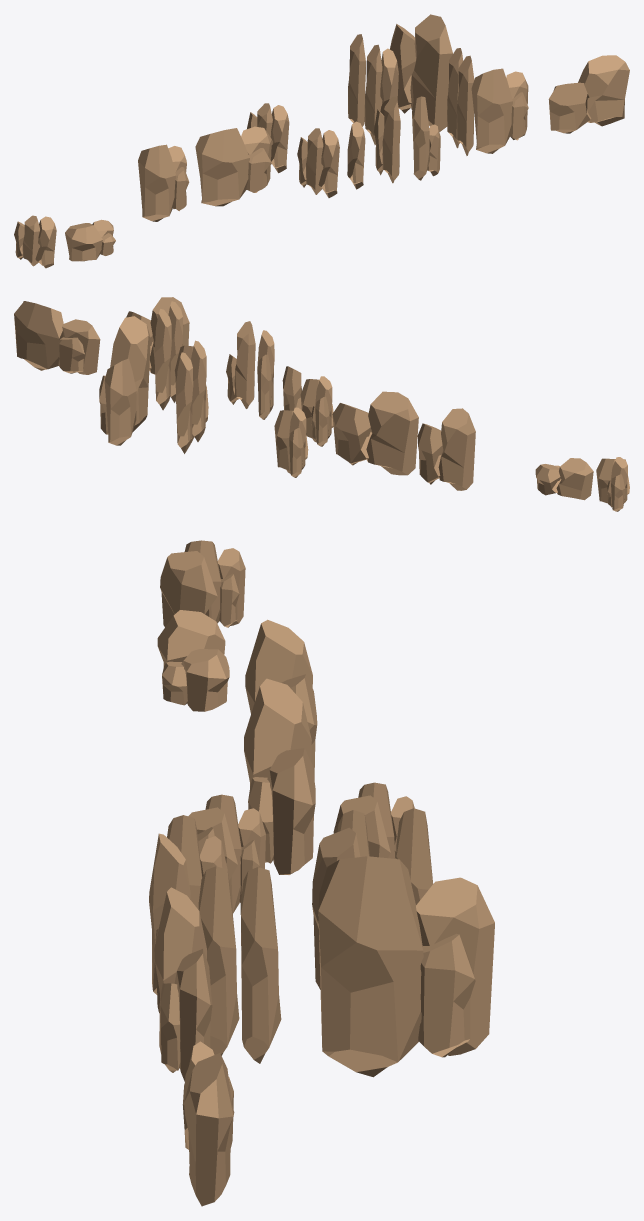
Rendered from rocks_block4.gltf.
3 views of the same model, one above another, from view 1: azimuth 30°, elevation 25°; view 2: azimuth 150°, elevation 25°; view 3: azimuth 270°, elevation 25° (orthographic). The views are drawn at different scales.
Parts seen in each view (by area): view 1: menhir_mini (×30); view 2: menhir_mini (×32); view 3: menhir_mini (×29).
Part boxes in pixels (left/top/right/bottom): menhir_mini (×30): left=22, top=14, right=629, bottom=268; menhir_mini (×32): left=14, top=297, right=629, bottom=511; menhir_mini (×29): left=149, top=540, right=494, bottom=1206.
Bounding box in the file's own units: 28.75 × 5.24 × 7.1.
